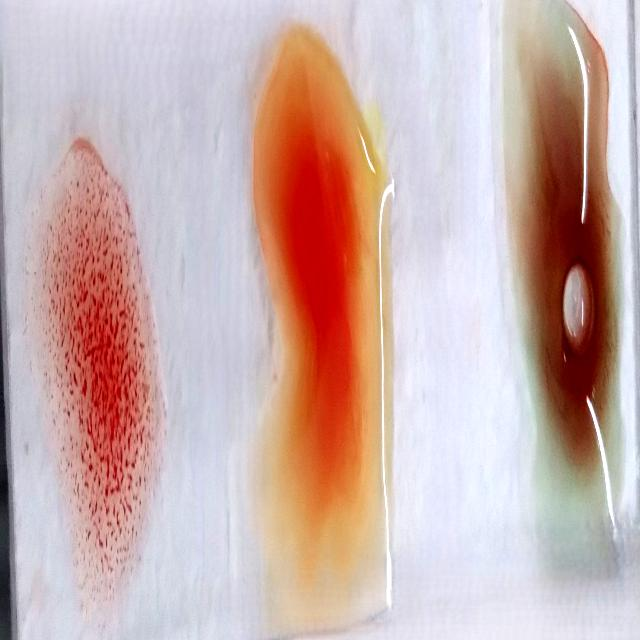D: (32, 154, 154, 606)
